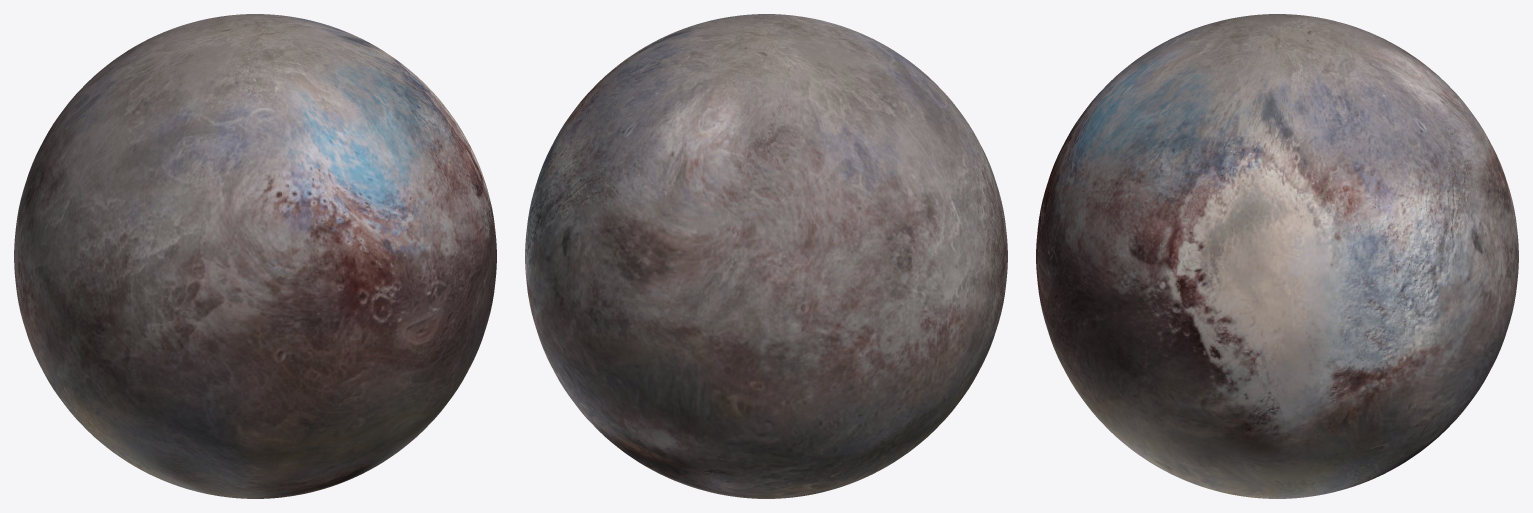
The model's file is Pluto.glb.
3 views of the same model, side by side, from view 1: azimuth 30°, elevation 25°; view 2: azimuth 150°, elevation 25°; view 3: azimuth 270°, elevation 25° (orthographic).
Parts seen in each view (by area): view 1: Sphere; view 2: Sphere; view 3: Sphere.
Boxes of the visible parts, x1,y1,x2,y2 form: Sphere: (14, 14, 496, 498); Sphere: (525, 14, 1007, 498); Sphere: (1036, 14, 1518, 498).
Size of the model in its own units: 1.99 by 2 by 1.99.
Materials: 1 (1 with a texture image).
